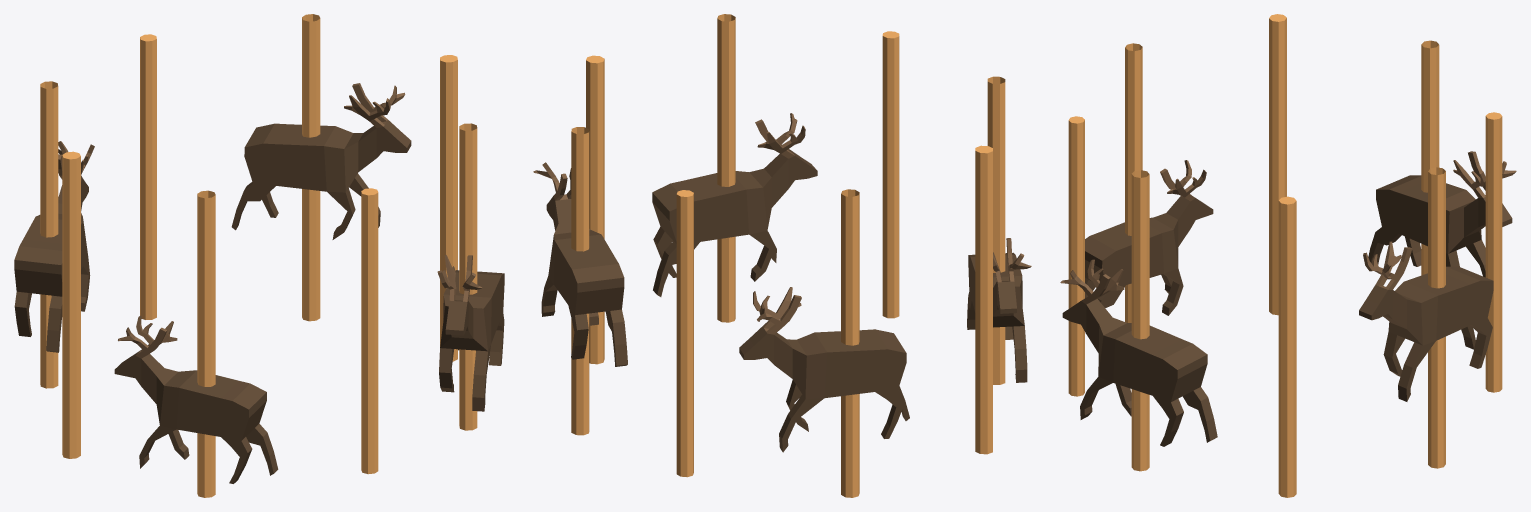
The model's file is CarouselHorses.gltf.
3 renders of one model, left to right at view 1: azimuth 30°, elevation 25°; view 2: azimuth 150°, elevation 25°; view 3: azimuth 270°, elevation 25°, orthographic. The views are drawn at different scales.
Visible parts, largest first — view 1: Carousel.001; view 2: Carousel.001; view 3: Carousel.001.
Part boxes in pixels (box(x1,y1,x2,y2)): Carousel.001: box(14, 14, 504, 497); Carousel.001: box(533, 14, 1031, 497); Carousel.001: box(1060, 14, 1516, 497).
Bounding box in the file's own units: 3.75 × 2.69 × 3.79.
Materials: 1 (1 with a texture image).
